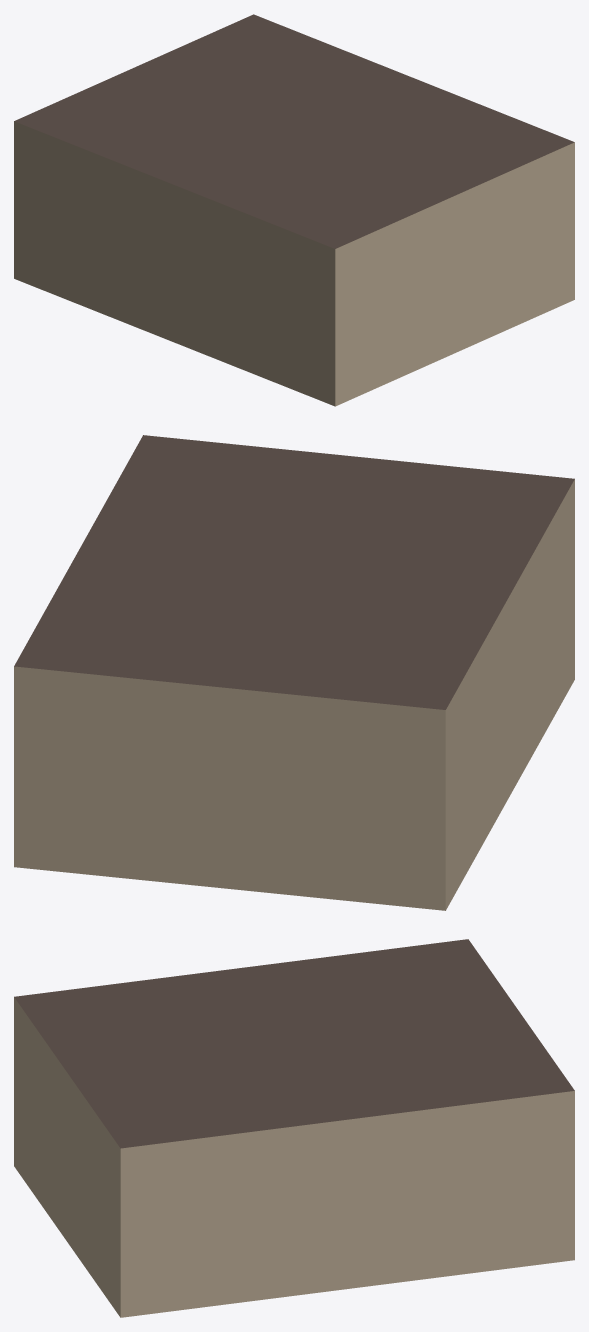
3 views of the same model, one above another, from view 1: azimuth 30°, elevation 25°; view 2: azimuth 150°, elevation 25°; view 3: azimuth 270°, elevation 25° (orthographic). The views are drawn at different scales.
Parts seen in each view (by area): view 1: HP-w380339832; view 2: HP-w380339832; view 3: HP-w380339832.
Boxes of the visible parts, left/top/right/bottom form: HP-w380339832: left=14, top=14, right=574, bottom=406; HP-w380339832: left=14, top=435, right=574, bottom=910; HP-w380339832: left=14, top=939, right=574, bottom=1317.
Bounding box in the file's own units: 23.87 × 9 × 27.02.
